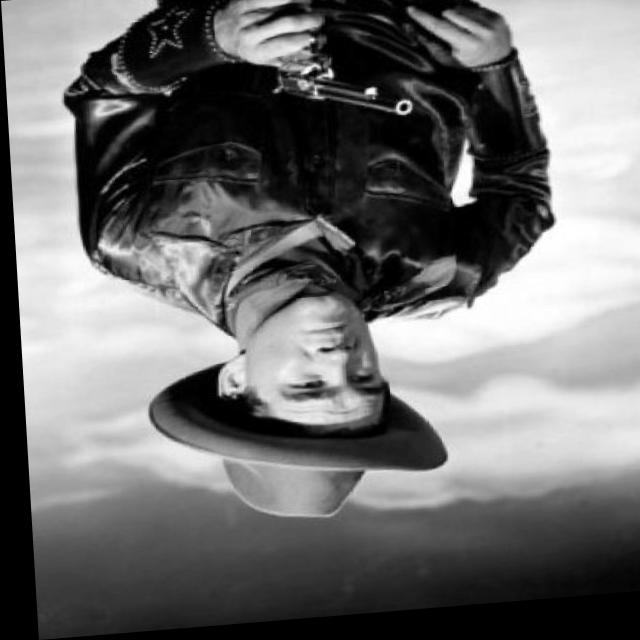handgun: (259, 0, 413, 132)
